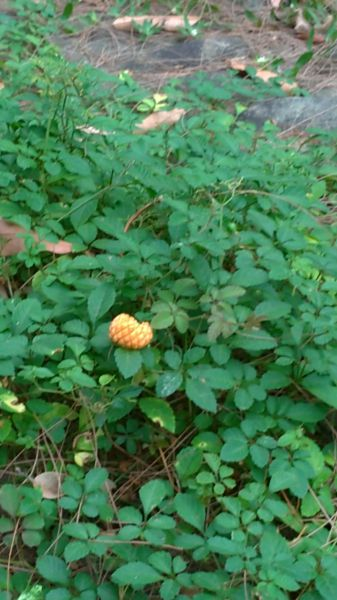eggs: (105, 312, 158, 354)
